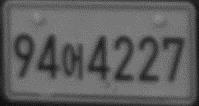2: (137, 36, 160, 83), (113, 35, 134, 82)
4: (85, 36, 112, 80), (36, 33, 59, 80)
7: (161, 36, 185, 81)
9: (11, 33, 36, 79)
어: (61, 41, 85, 82)
